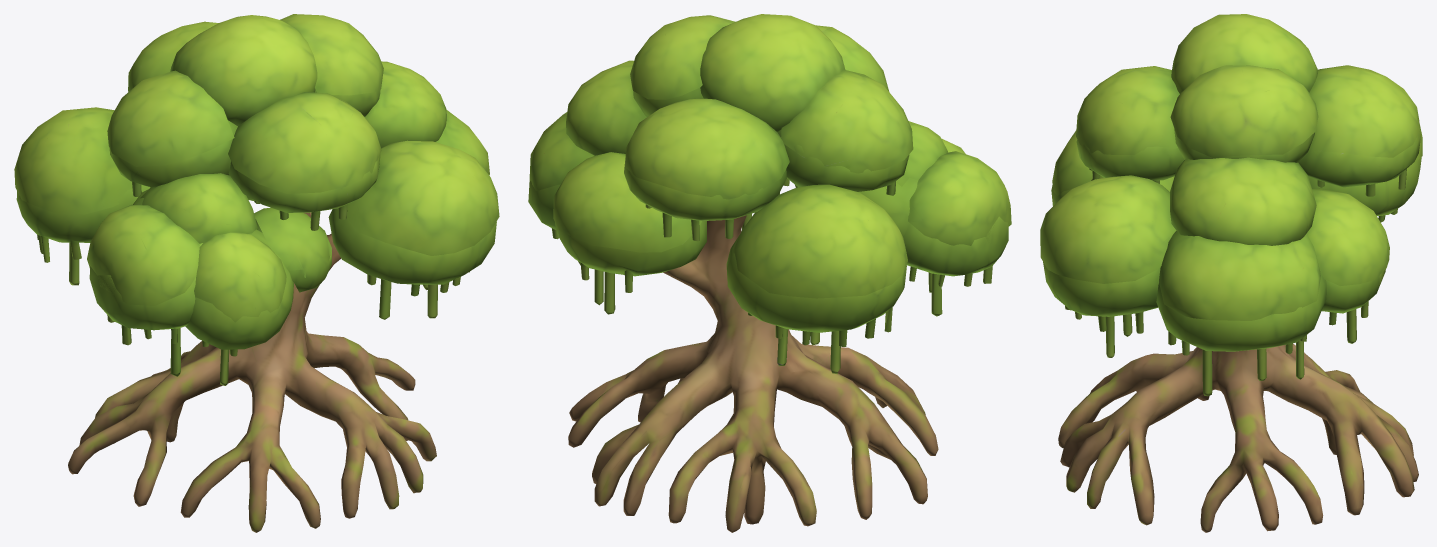
The model's file is arbol_manglar.glb.
The picture shows the model from 3 angles, left to right: view 1: azimuth 30°, elevation 25°; view 2: azimuth 150°, elevation 25°; view 3: azimuth 270°, elevation 25°; orthographic projection. The views are drawn at different scales.
Visible parts, largest first — view 1: arbol_manglar; view 2: arbol_manglar; view 3: arbol_manglar.
Part boxes in pixels (x1=…): arbol_manglar: x1=14, y1=14, x2=499, y2=532; arbol_manglar: x1=528, y1=14, x2=1011, y2=532; arbol_manglar: x1=1040, y1=14, x2=1422, y2=532.
Size of the model in its own units: 0.5444 by 0.5747 by 0.443.
1 material, 1 textured.
